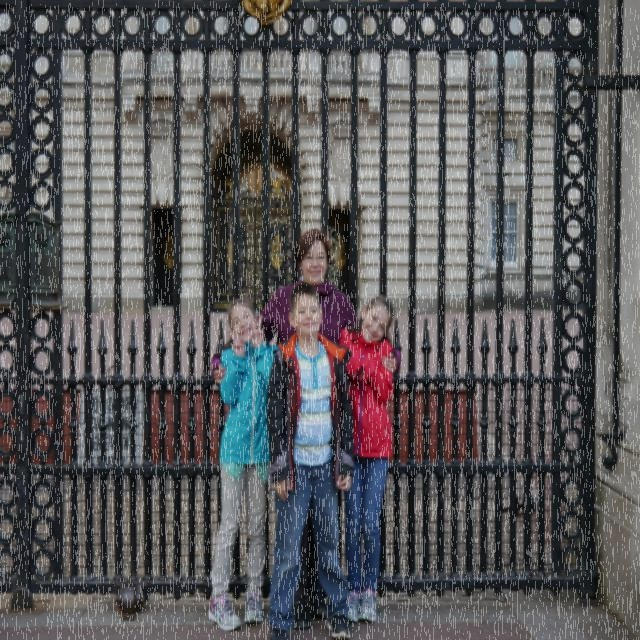pessoa: (255, 228, 359, 632), (264, 279, 358, 639), (204, 294, 284, 638), (332, 292, 402, 628)
